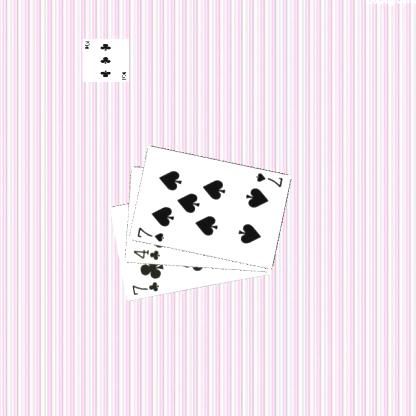4C: (130, 247, 161, 261)
7C: (129, 279, 160, 297)
7S: (134, 225, 166, 243), (253, 171, 284, 188)
